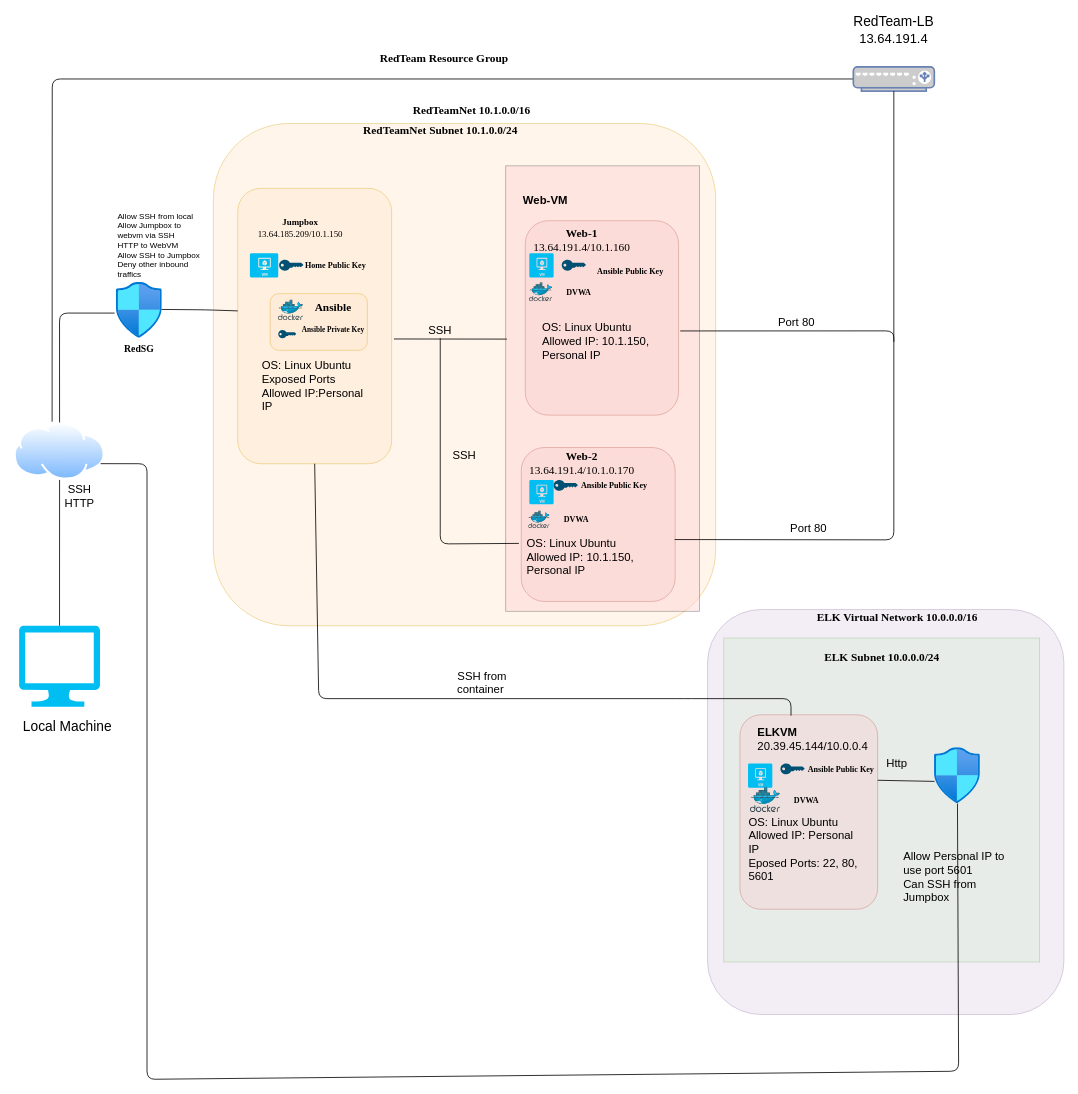
This 1078x1094 diagram has some shape labels left out. The centre of each missing label's shape, as x and y in pixels:
"ELK-SG" goes at (957,775).
"Internet" goes at (59,451).
